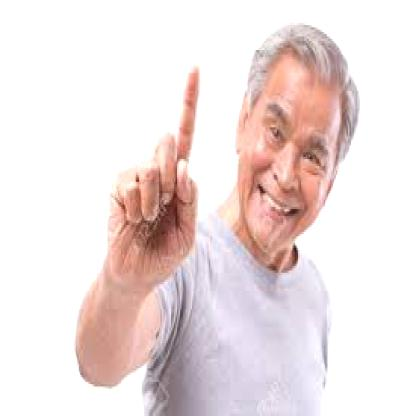Up: (103, 33, 222, 268)
